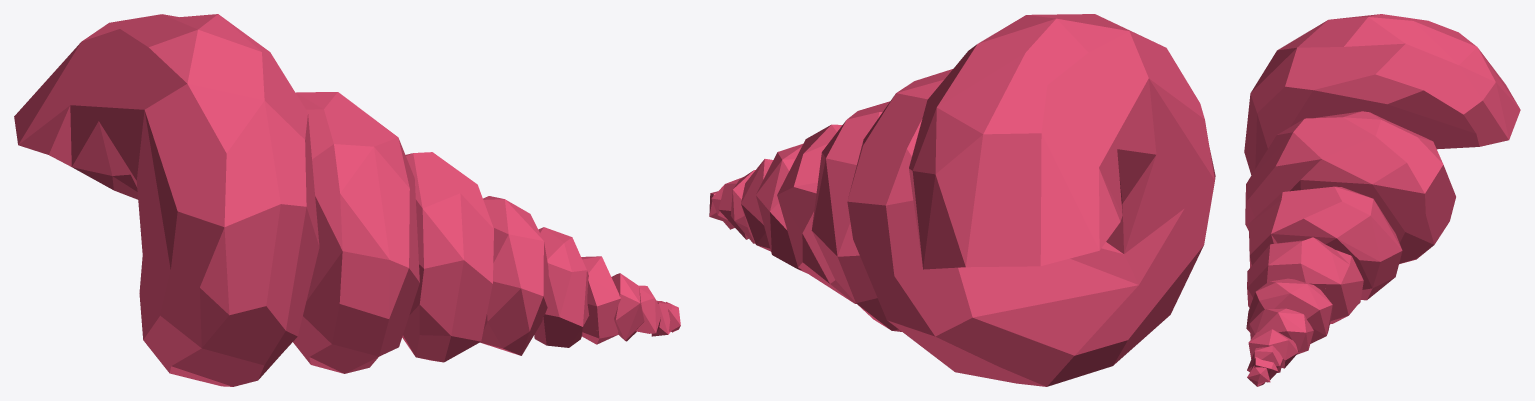
File: Zakręcona.fbx
The picture shows the model from 3 angles, left to right: view 1: azimuth 30°, elevation 25°; view 2: azimuth 150°, elevation 25°; view 3: azimuth 270°, elevation 25°; orthographic projection. The views are drawn at different scales.
Visible parts, largest first — view 1: BigShell; view 2: BigShell; view 3: BigShell.
Boxes of the visible parts, x1=… form: BigShell: x1=14, y1=14, x2=680, y2=386; BigShell: x1=709, y1=14, x2=1215, y2=386; BigShell: x1=1244, y1=14, x2=1520, y2=386.
Bounding box in the file's own units: 295 × 190 × 199.
